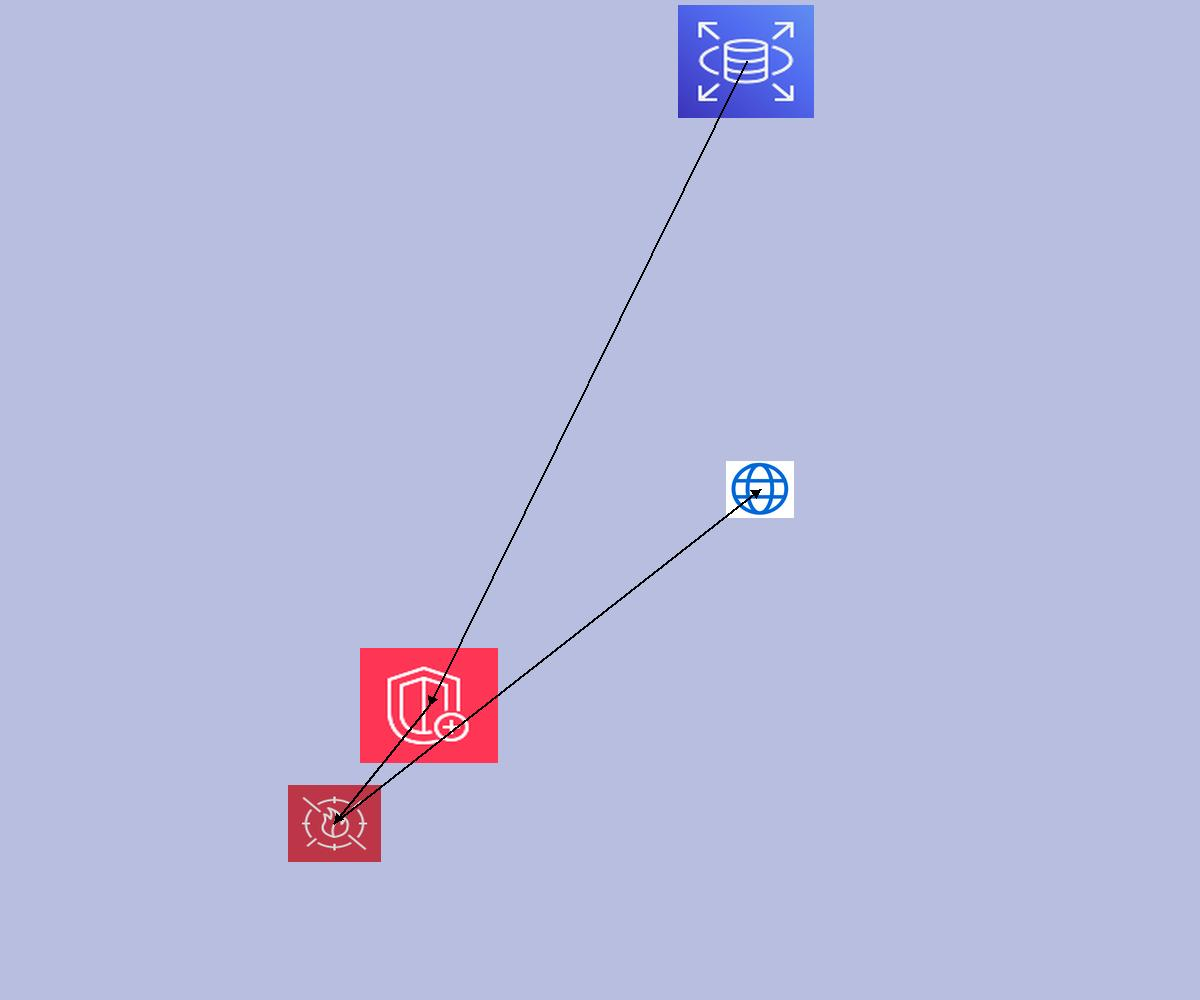AWS-RDS: (678, 5, 814, 118)
AWS-Shield: (360, 648, 498, 763)
AWS-WAF: (288, 785, 381, 862)
Azure_http: (726, 461, 794, 518)
